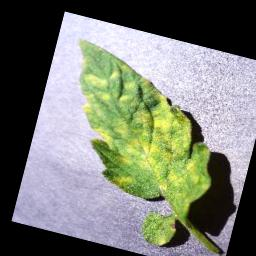Leaf_Mold: (45, 37, 239, 215), (154, 232, 169, 247), (167, 217, 178, 231)
